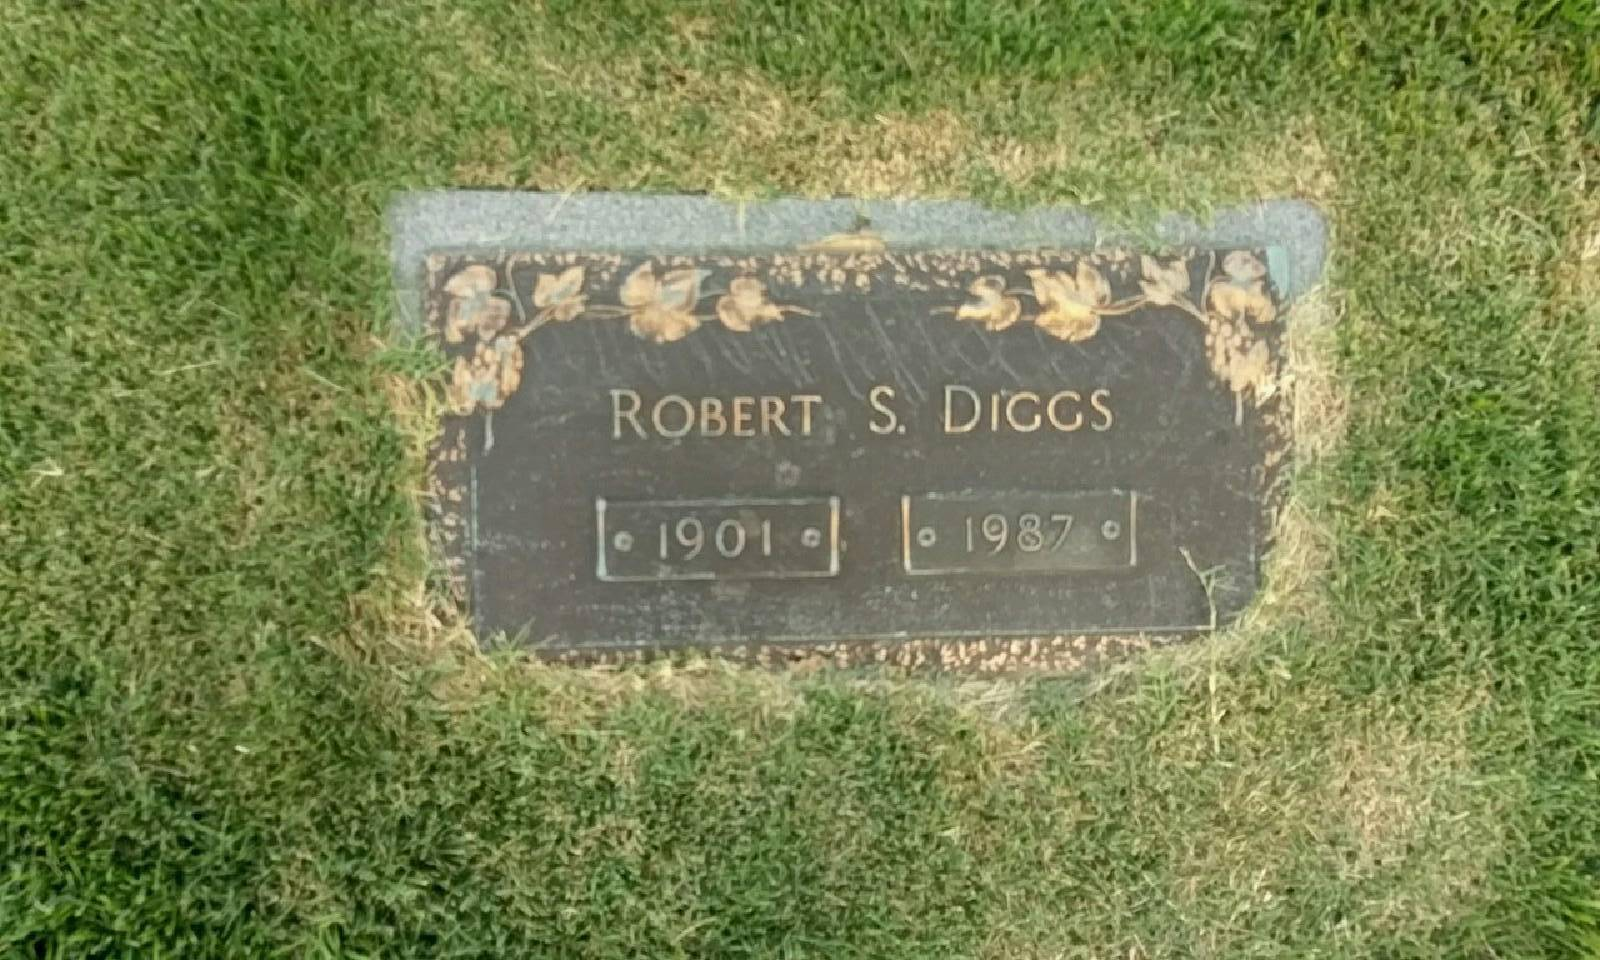flat: (377, 193, 1326, 682)
